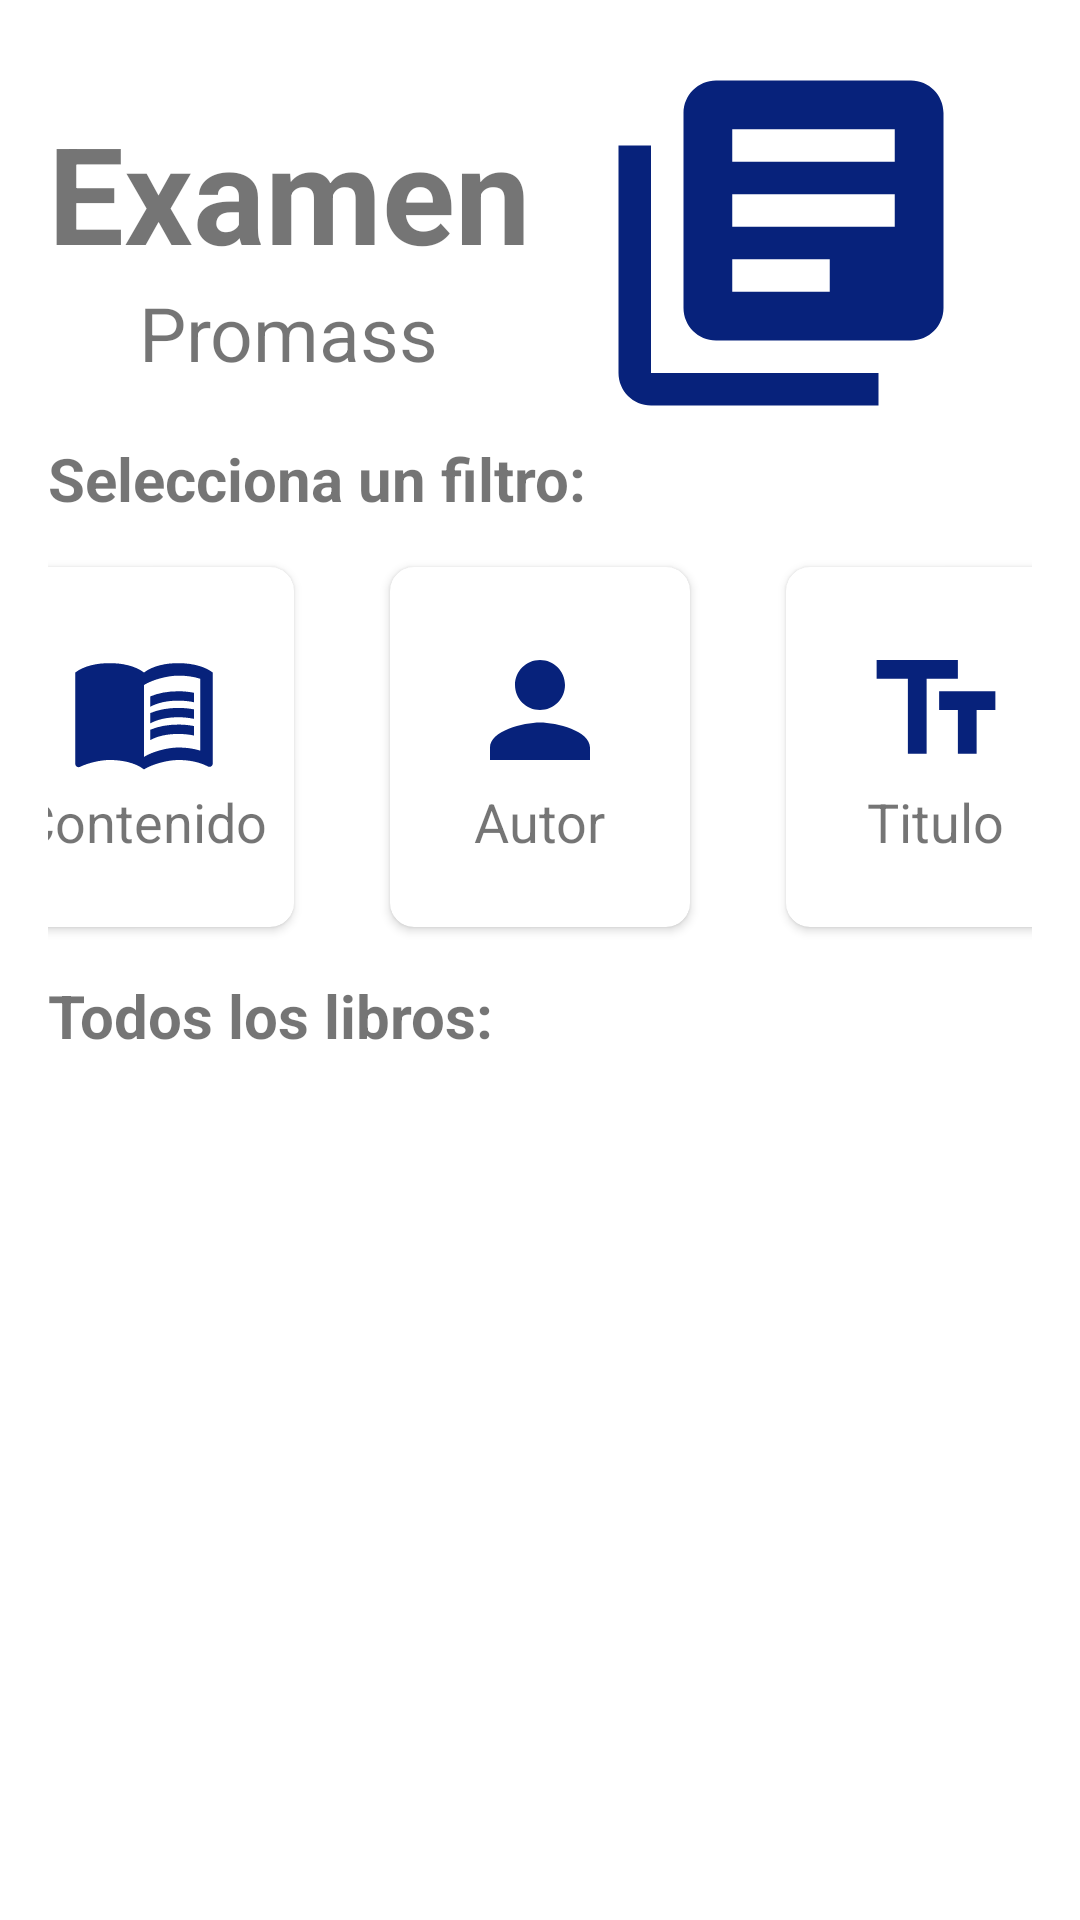

Named icons in this screenshot (1080 x 1920) and their centers, (x=x, y=y):
person: (x=540, y=710)
text fields: (x=936, y=707)
